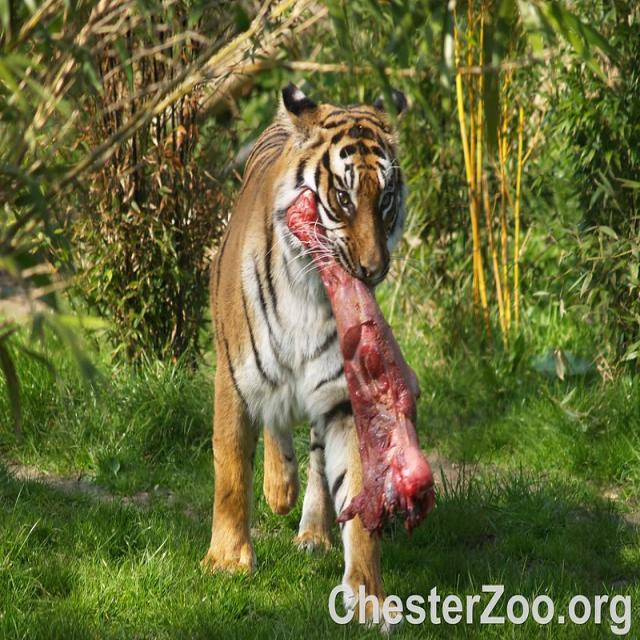Tiger: (199, 77, 406, 624)
